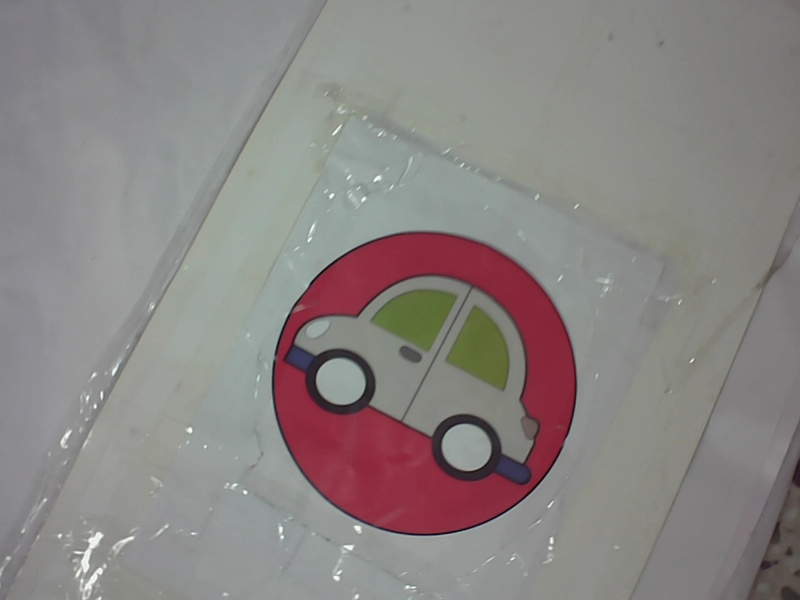areaC: (267, 223, 586, 543)
